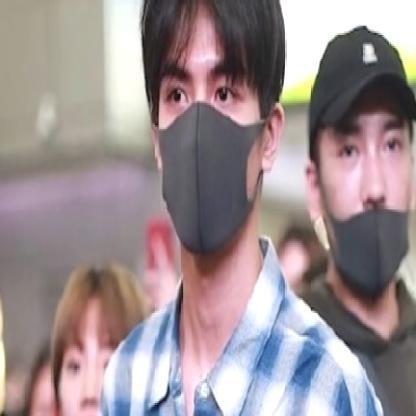mask_weared_incorrect: (317, 118, 413, 298)
with_mask: (158, 50, 265, 256)
without_mask: (61, 330, 119, 413)
